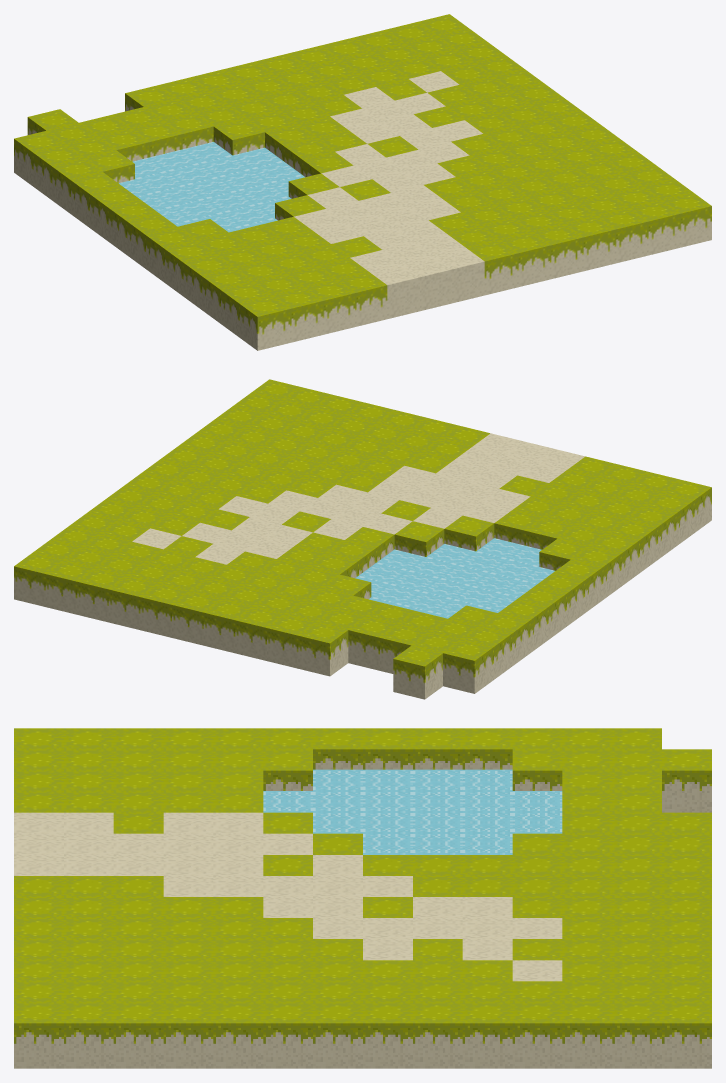
File: Start_field.fbx
3 views of the same model, one above another, from view 1: azimuth 30°, elevation 25°; view 2: azimuth 150°, elevation 25°; view 3: azimuth 270°, elevation 25° (orthographic). The views are drawn at different scales.
Visible parts, largest first — view 1: Ground_Grass_D__2__1__9__1; view 2: Ground_Grass_D__2__1__9__1; view 3: Ground_Grass_D__2__1__9__1.
Part boxes in pixels (x1=…): Ground_Grass_D__2__1__9__1: x1=14, y1=14, x2=711, y2=350; Ground_Grass_D__2__1__9__1: x1=14, y1=379, x2=711, y2=699; Ground_Grass_D__2__1__9__1: x1=14, y1=728, x2=711, y2=1068.
Size of the model in its own units: 8400 by 600 by 8400.
Materials: 3 (3 with a texture image).
